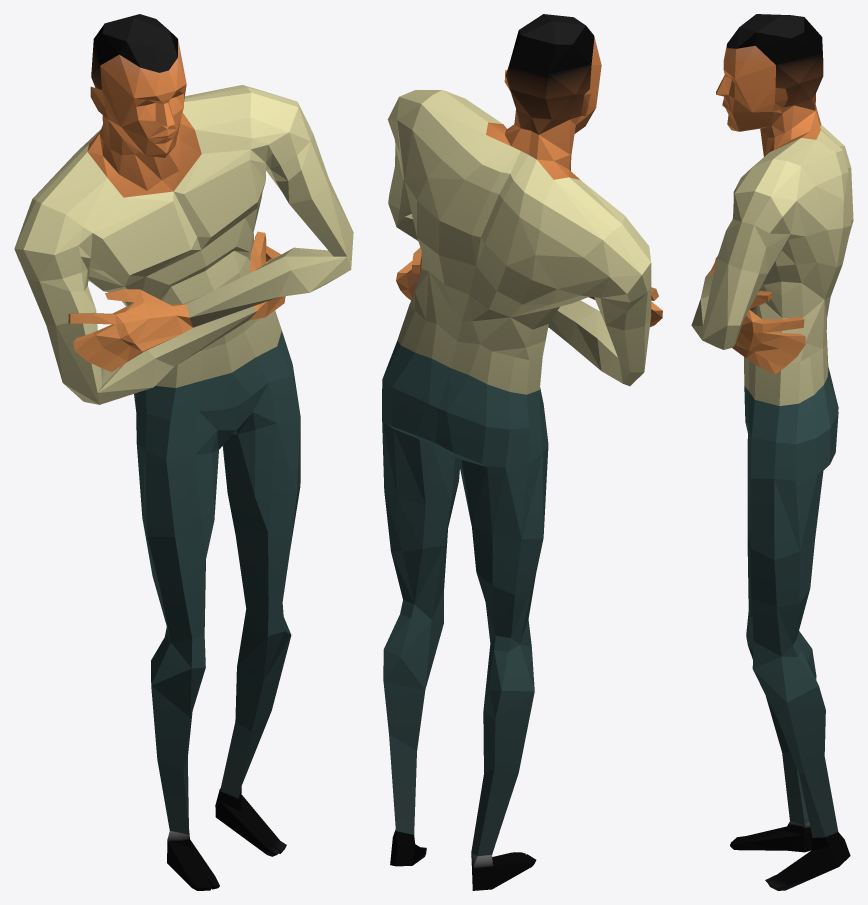
File: PUPET_Lean.obj
3 views of the same model, side by side, from view 1: azimuth 30°, elevation 25°; view 2: azimuth 150°, elevation 25°; view 3: azimuth 270°, elevation 25° (orthographic). The views are drawn at different scales.
Parts seen in each view (by area): view 1: Archer; view 2: Archer; view 3: Archer.
Part boxes in pixels (x1,y1,x2,y2): Archer: (14,14,353,890); Archer: (382,14,662,890); Archer: (691,14,853,890).
Size of the model in its own units: 0.6552 by 1.84 by 0.3336.
